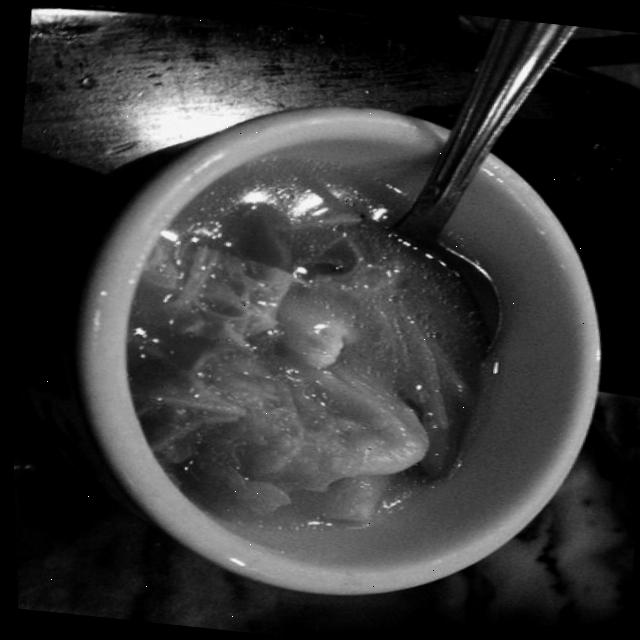汤锅炖物: (86, 113, 587, 583)
